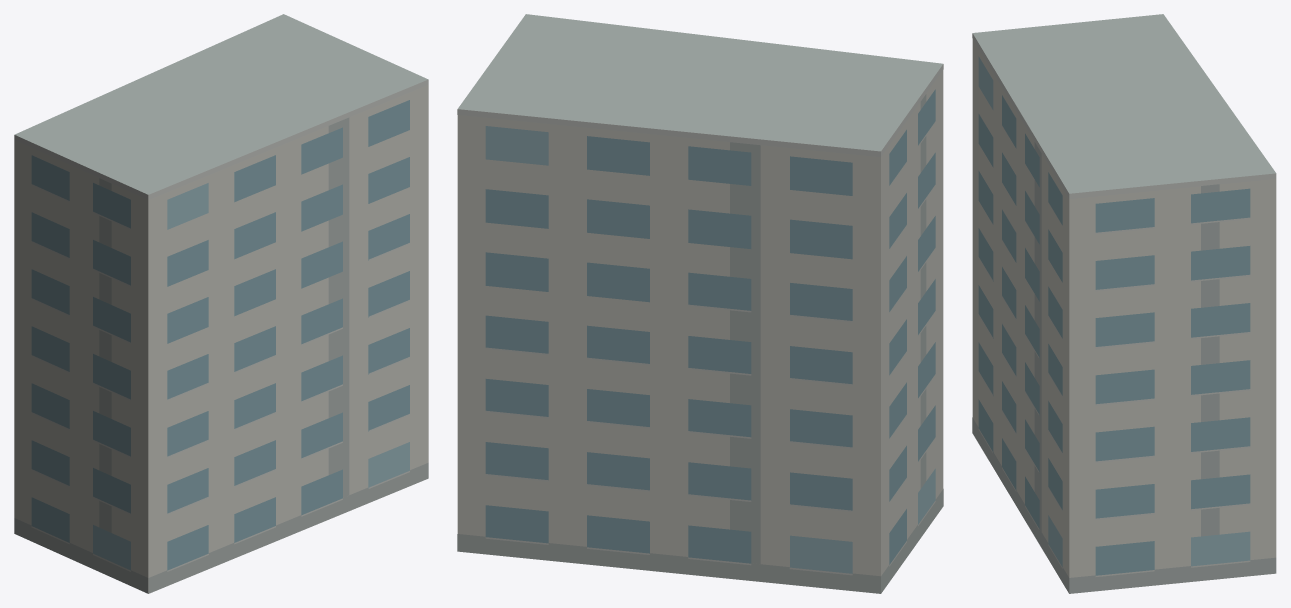
File: survey-upis-32651581.glb
3 views of the same model, side by side, from view 1: azimuth 30°, elevation 25°; view 2: azimuth 150°, elevation 25°; view 3: azimuth 270°, elevation 25° (orthographic). The views are drawn at different scales.
Visible parts, largest first — view 1: survey-upis-32651581.tmp; view 2: survey-upis-32651581.tmp; view 3: survey-upis-32651581.tmp.
Part boxes in pixels (x1=…): survey-upis-32651581.tmp: x1=14, y1=14, x2=428, y2=593; survey-upis-32651581.tmp: x1=457, y1=14, x2=943, y2=593; survey-upis-32651581.tmp: x1=972, y1=14, x2=1276, y2=593.
Bounding box in the file's own units: 17.92 × 18.6 × 12.81.
